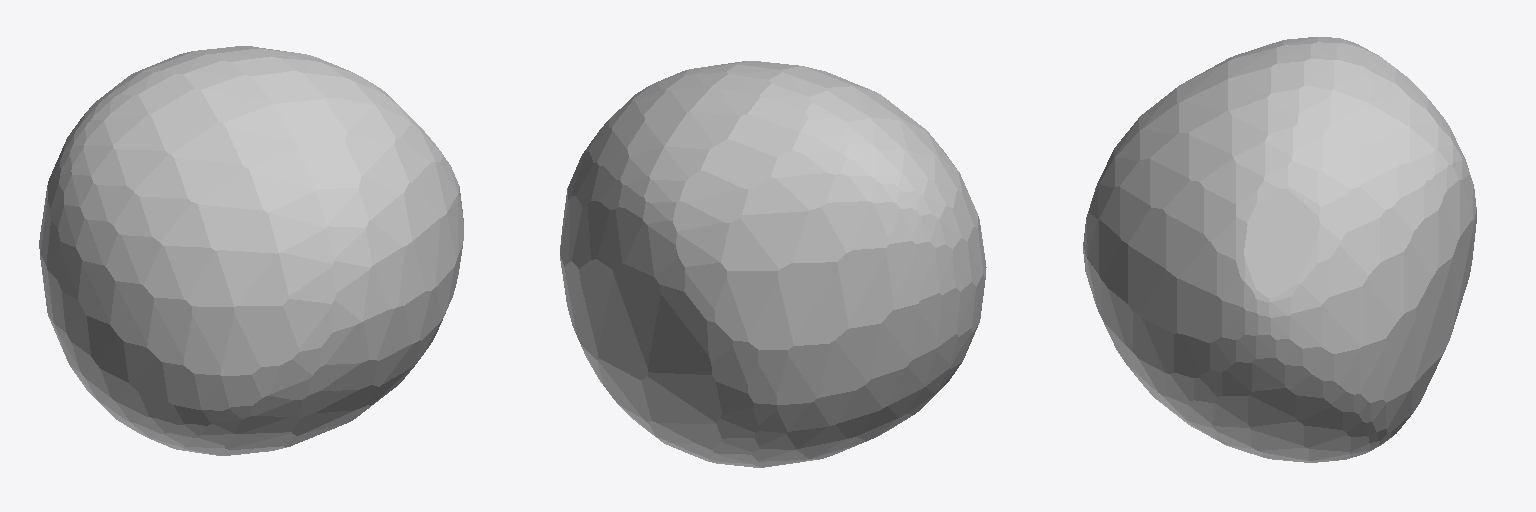
Rendered from Pallas_Torppa_scaled.obj.
The picture shows the model from 3 angles: view 1: azimuth 30°, elevation 25°; view 2: azimuth 150°, elevation 25°; view 3: azimuth 270°, elevation 25°; orthographic projection.
Size of the model in its own units: 0.379 by 0.3529 by 0.334.